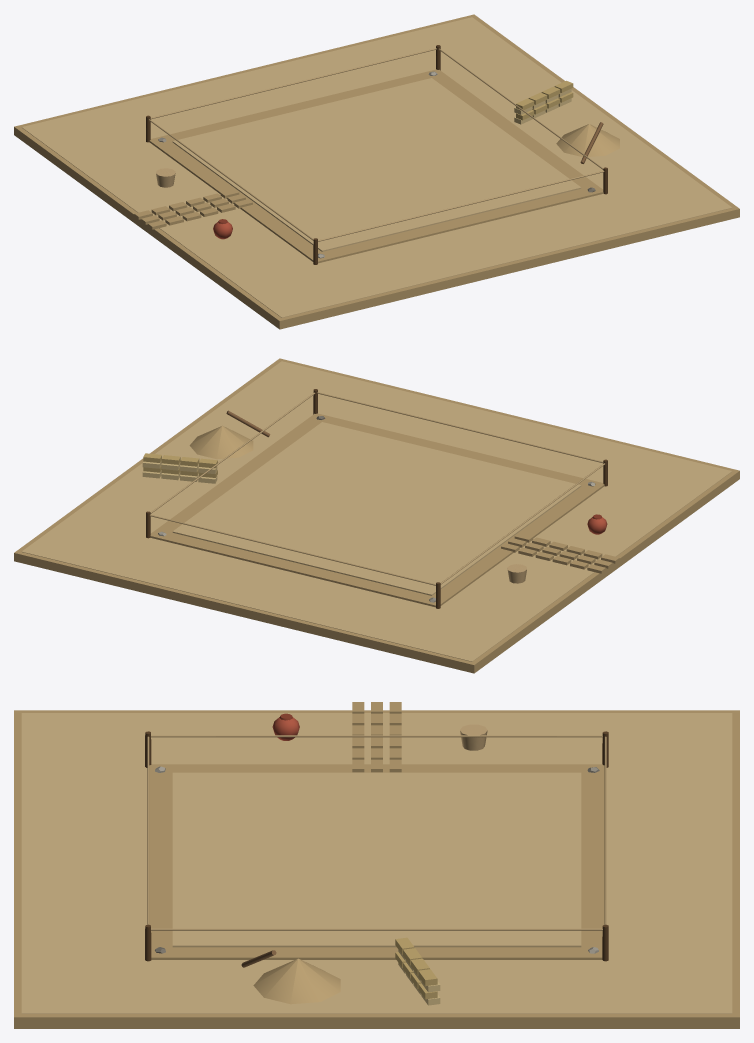
File: rad-4-site.glb
The picture shows the model from 3 angles, top to bottom: view 1: azimuth 30°, elevation 25°; view 2: azimuth 150°, elevation 25°; view 3: azimuth 270°, elevation 25°; orthographic projection. The views are drawn at different scales.
Bounding box in the file's own units: 24.18 × 1.81 × 24.
Materials: 13 (1 with a texture image).
